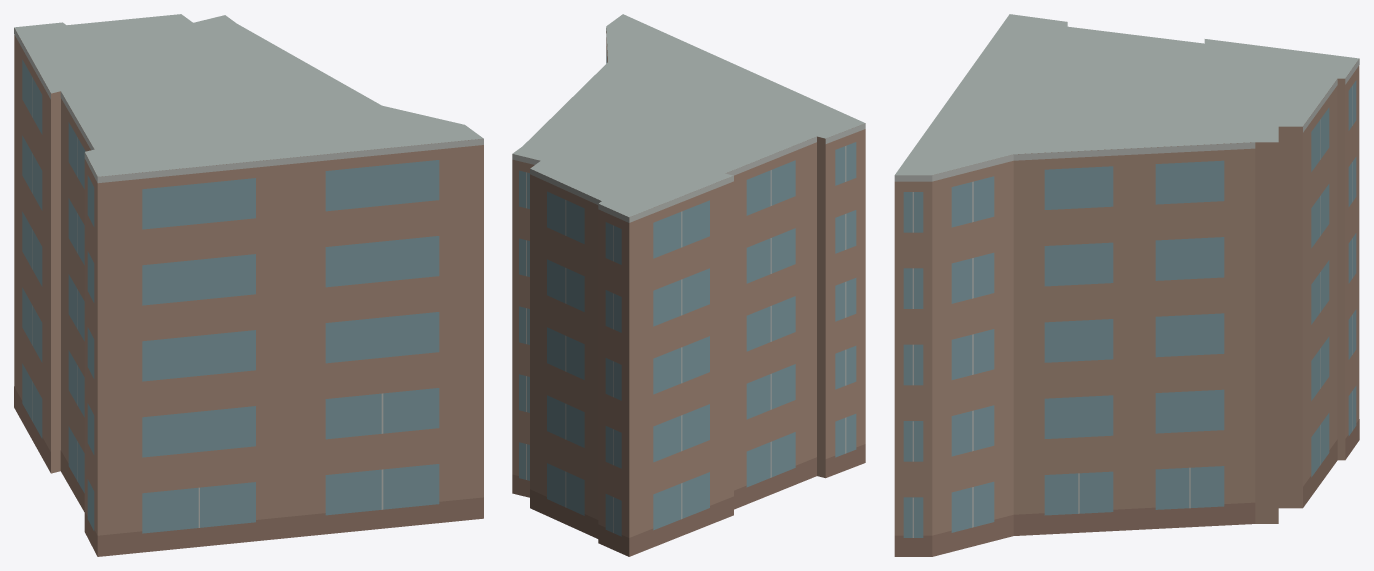
The model's file is survey-upis-32895065.glb.
3 renders of one model, left to right at view 1: azimuth 30°, elevation 25°; view 2: azimuth 150°, elevation 25°; view 3: azimuth 270°, elevation 25°, orthographic. The views are drawn at different scales.
Parts seen in each view (by area): view 1: survey-upis-32895065.tmp; view 2: survey-upis-32895065.tmp; view 3: survey-upis-32895065.tmp.
Boxes of the visible parts, left/top/right/bottom form: survey-upis-32895065.tmp: left=14, top=14, right=483, bottom=556; survey-upis-32895065.tmp: left=512, top=14, right=865, bottom=556; survey-upis-32895065.tmp: left=894, top=14, right=1359, bottom=556.
Bounding box in the file's own units: 13.19 × 14.55 × 16.07.
